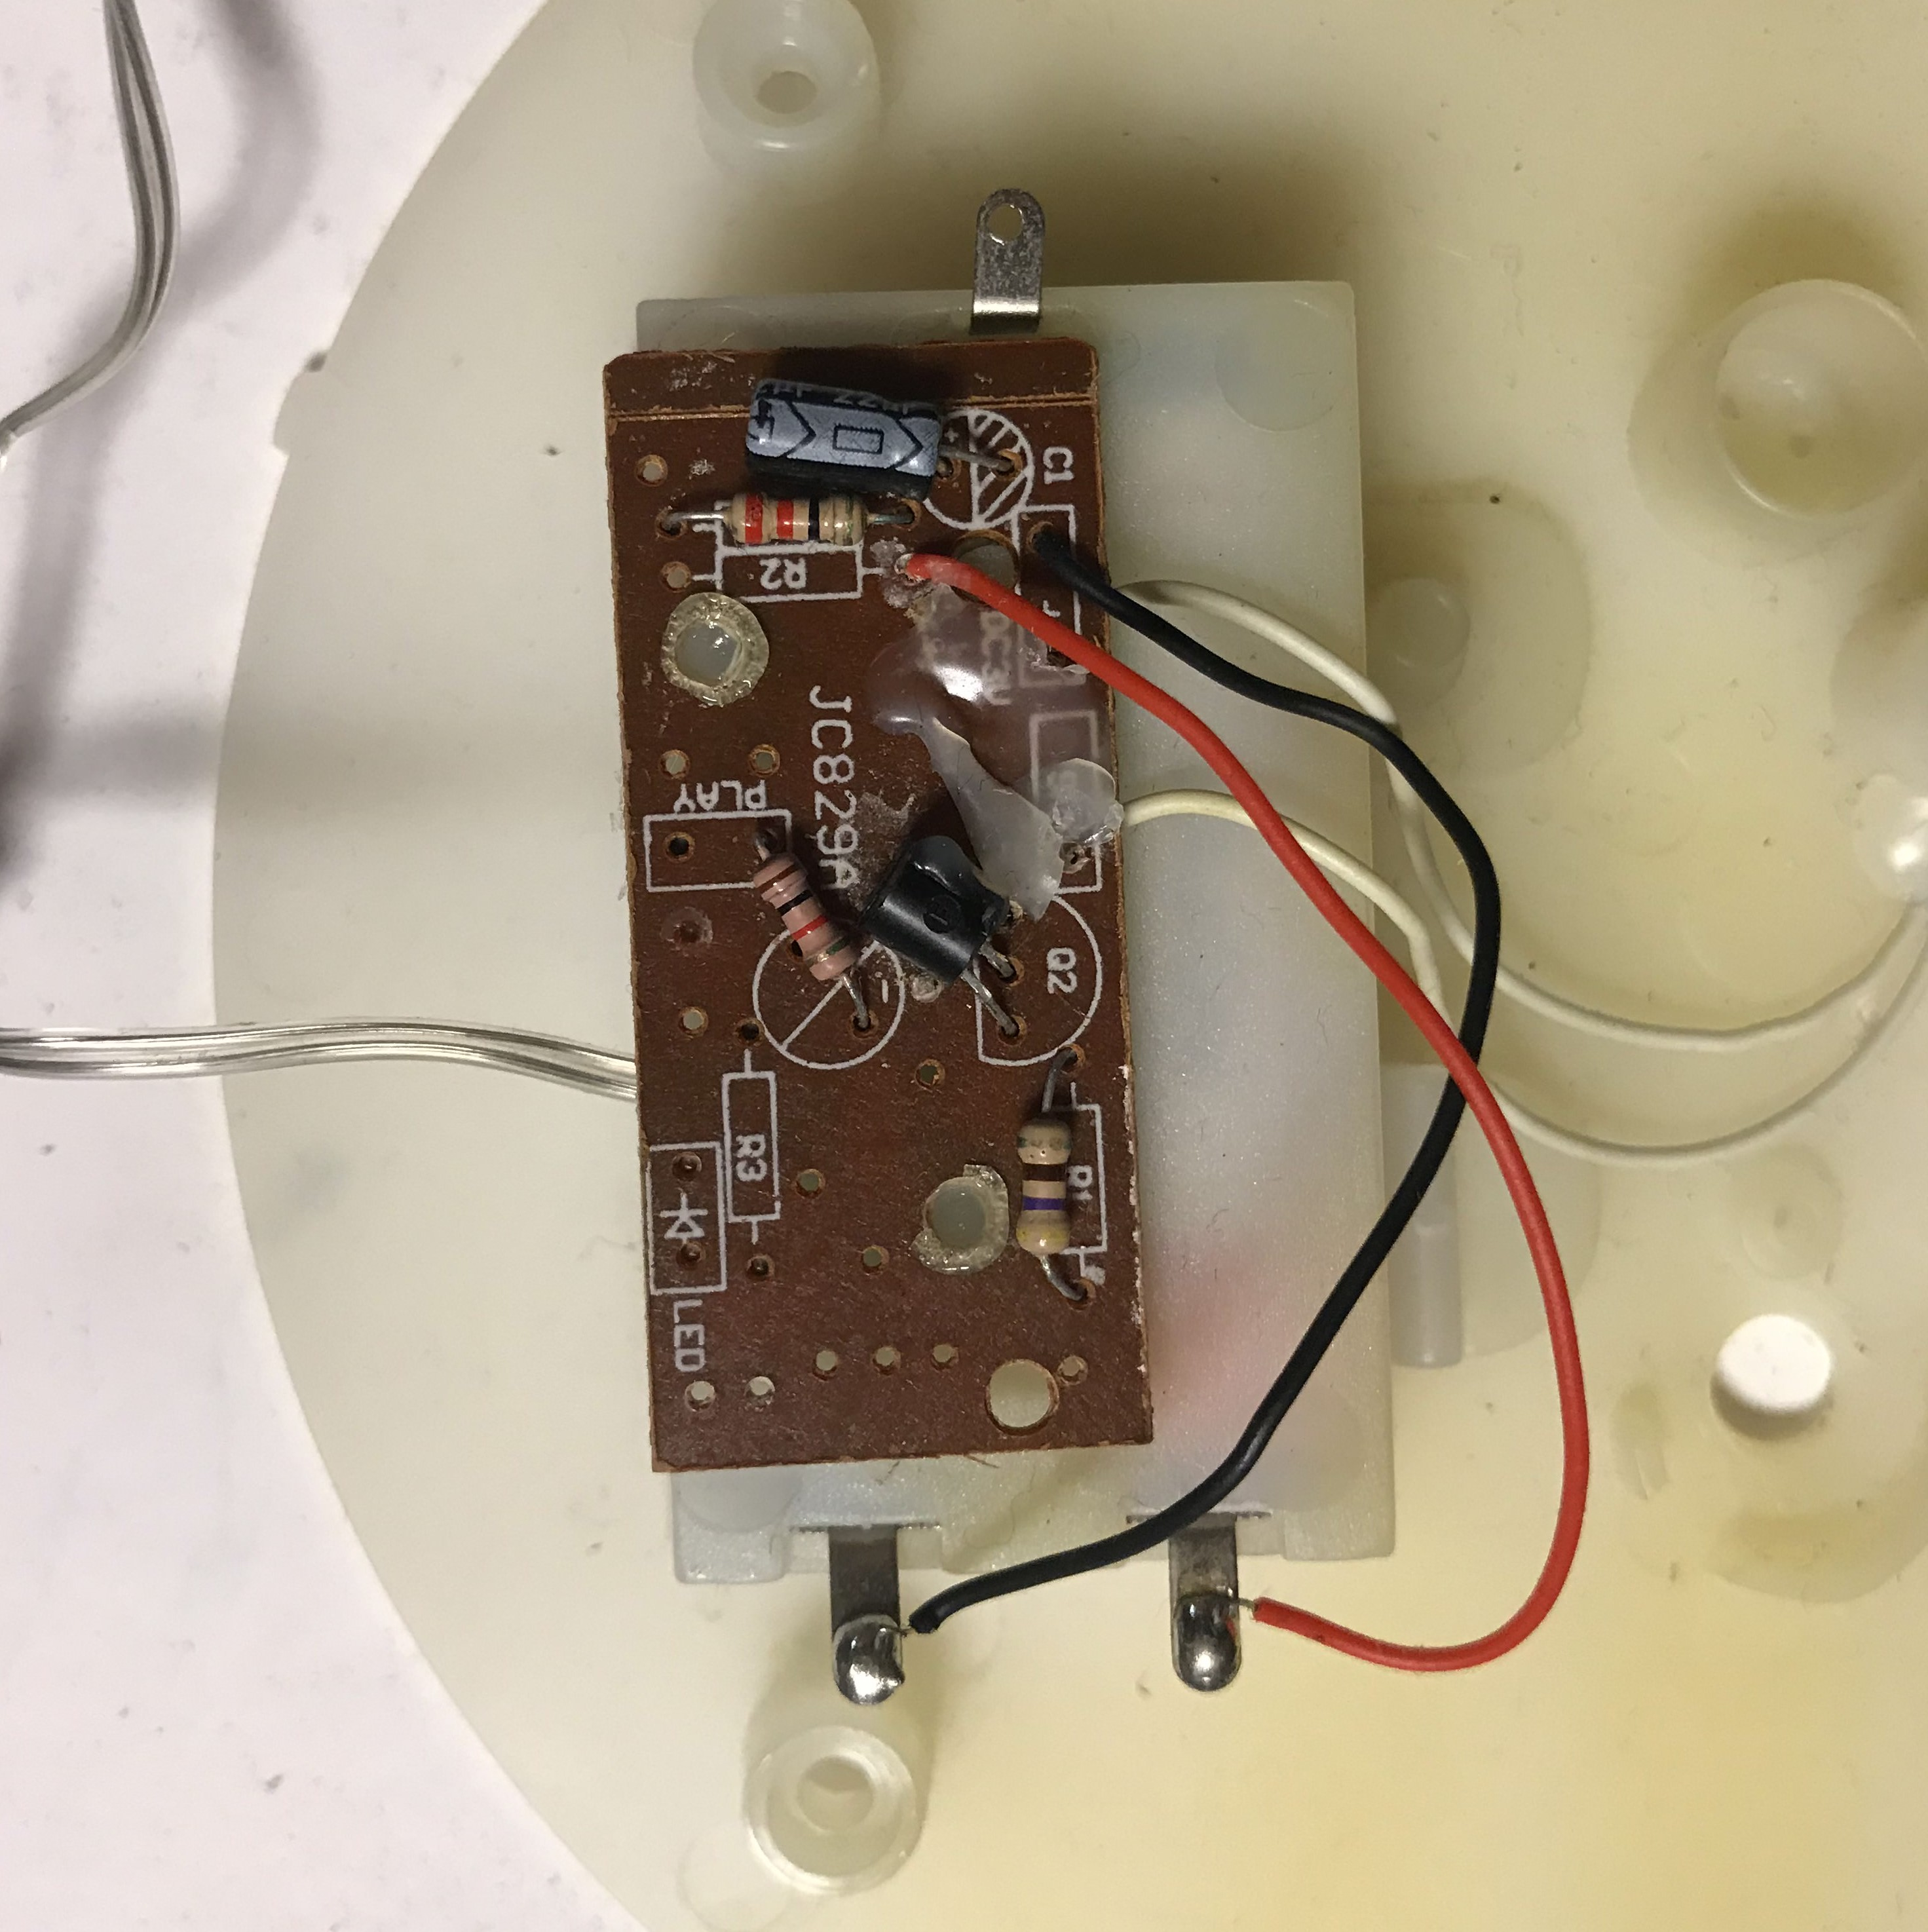Capacitor: (738, 366, 962, 496)
Resistor: (745, 842, 870, 991), (1012, 1109, 1079, 1264), (710, 486, 876, 547)
